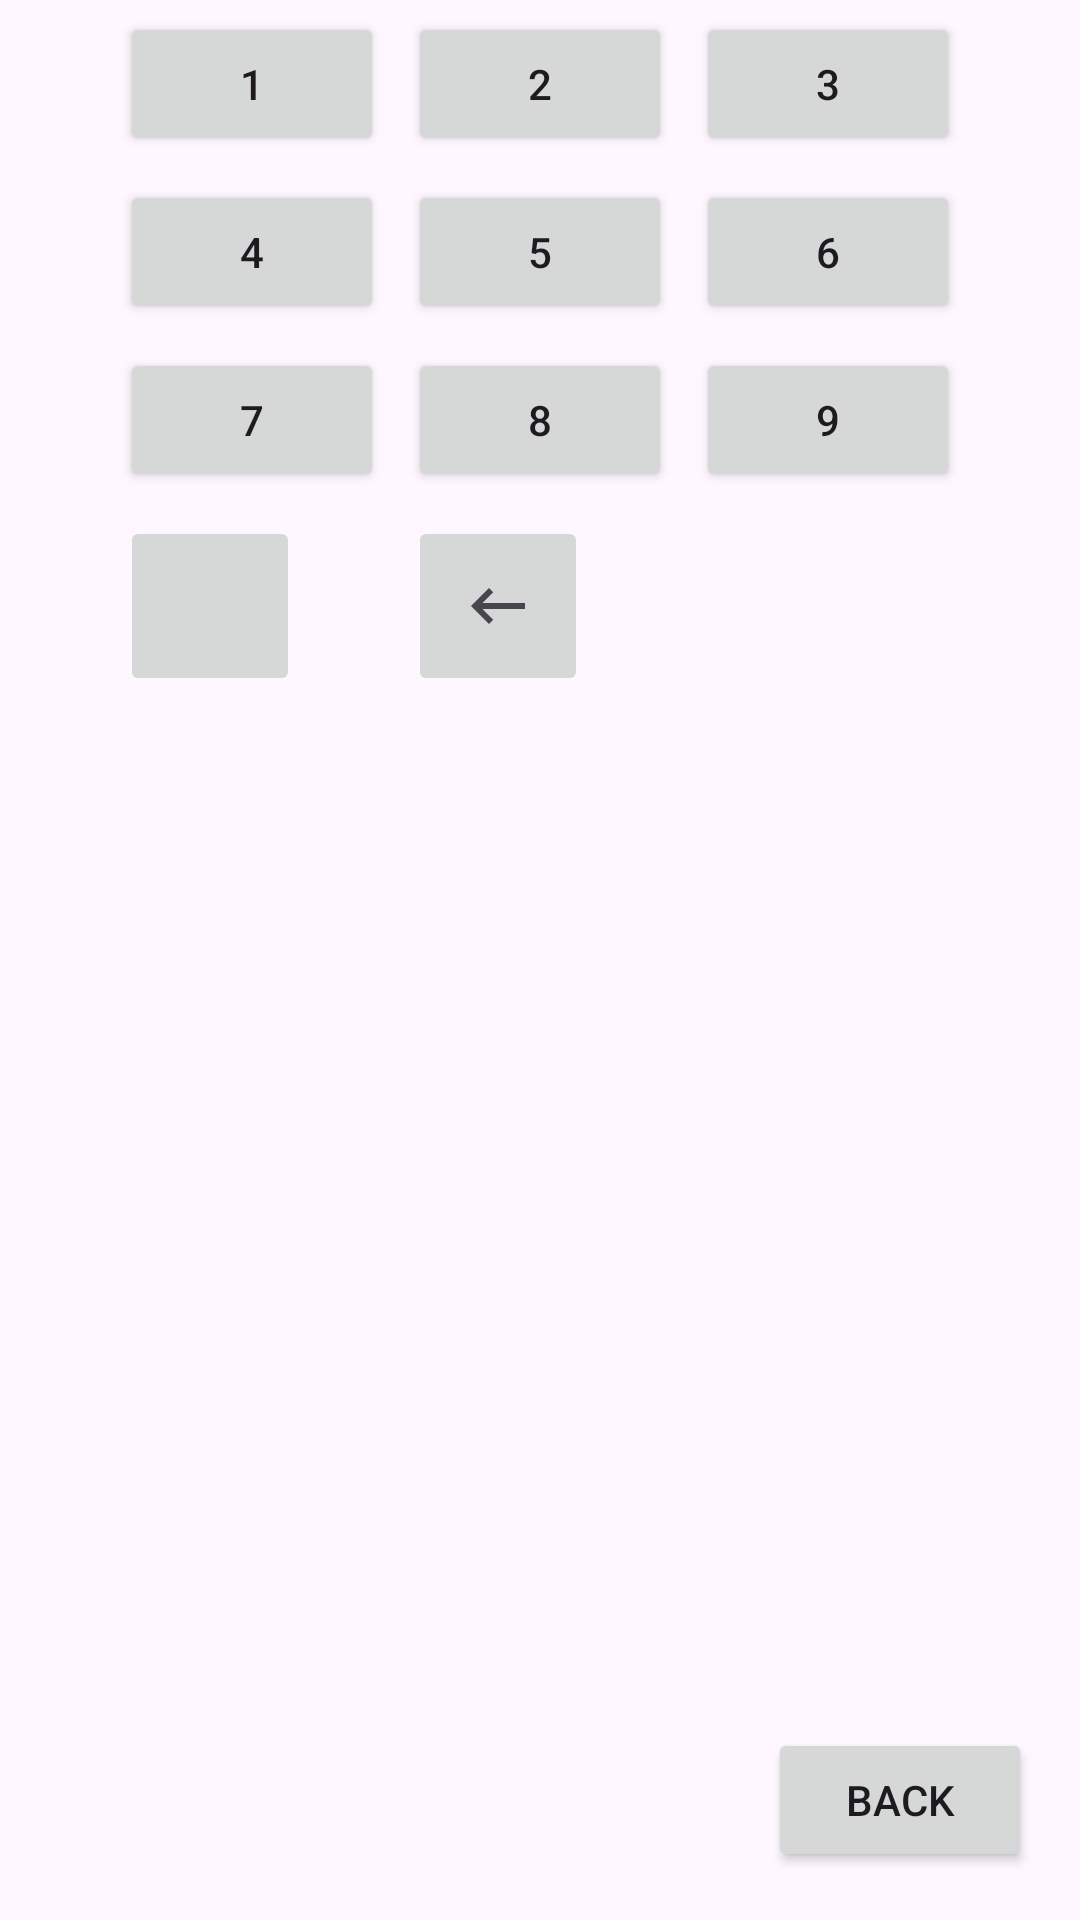

Where icons sit on this 1080w x 1920h app screen, as bbox=[x1, y1, x2, y2]:
Delete cell content: bbox=[420, 534, 576, 678]
